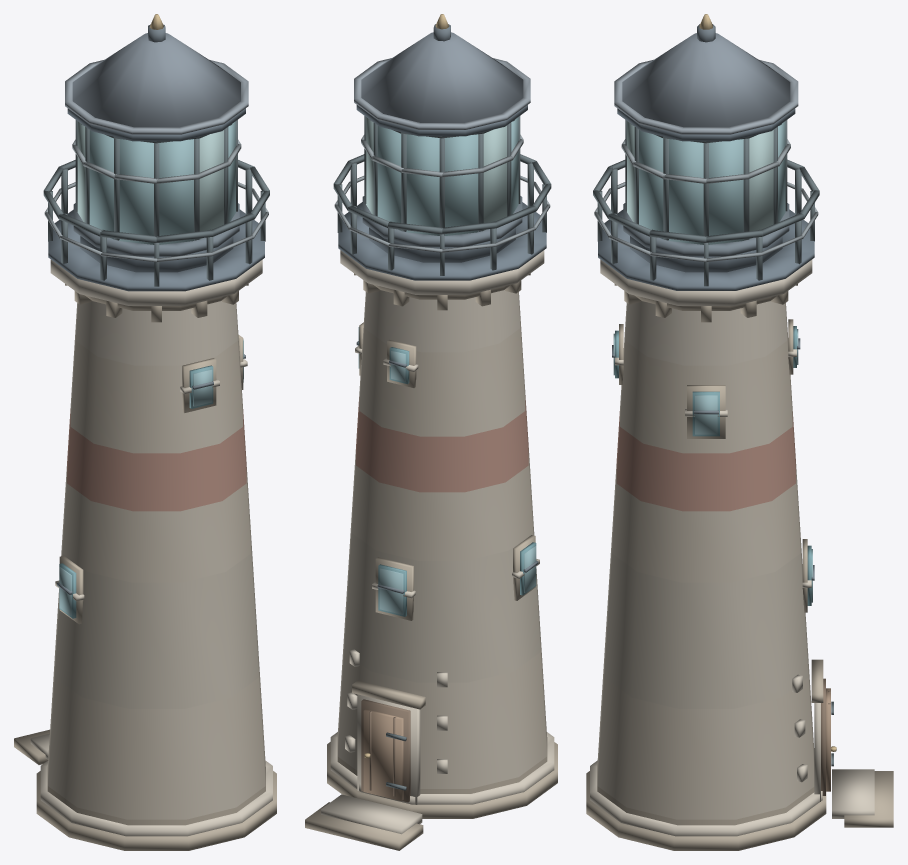
3 views of the same model, side by side, from view 1: azimuth 30°, elevation 25°; view 2: azimuth 150°, elevation 25°; view 3: azimuth 270°, elevation 25° (orthographic). The views are drawn at different scales.
Visible parts, largest first — view 1: lighthouse_static; view 2: lighthouse_static; view 3: lighthouse_static.
Boxes of the visible parts, <box> form: lighthouse_static: <box>14,14,276,850</box>; lighthouse_static: <box>305,14,557,850</box>; lighthouse_static: <box>586,14,893,850</box>.
Bounding box in the file's own units: 4.95 × 17.93 × 6.33.
